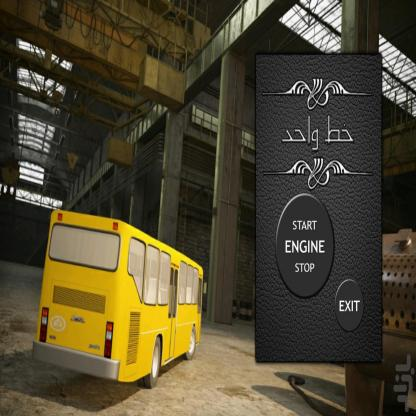Bus: (35, 210, 205, 393)
